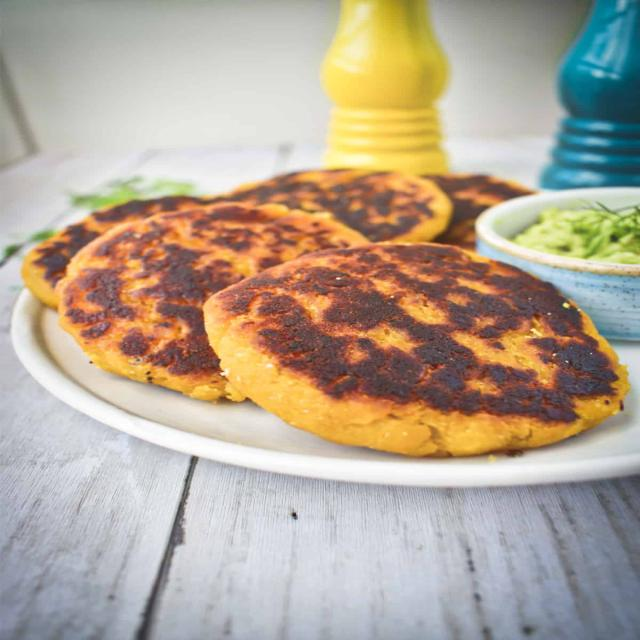arepa: (200, 236, 628, 467), (51, 202, 381, 412)
